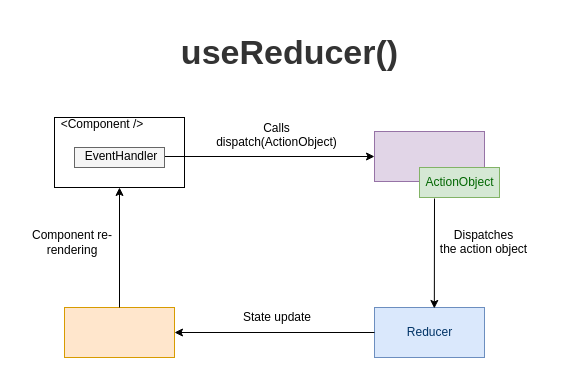
Some shapes in this 563 by 375 pixel diagram are drawn without their labels. The centre of each missing label's shape, as x and y in pixels:
Dispatch: the point at 429,156
State: the point at 119,332
